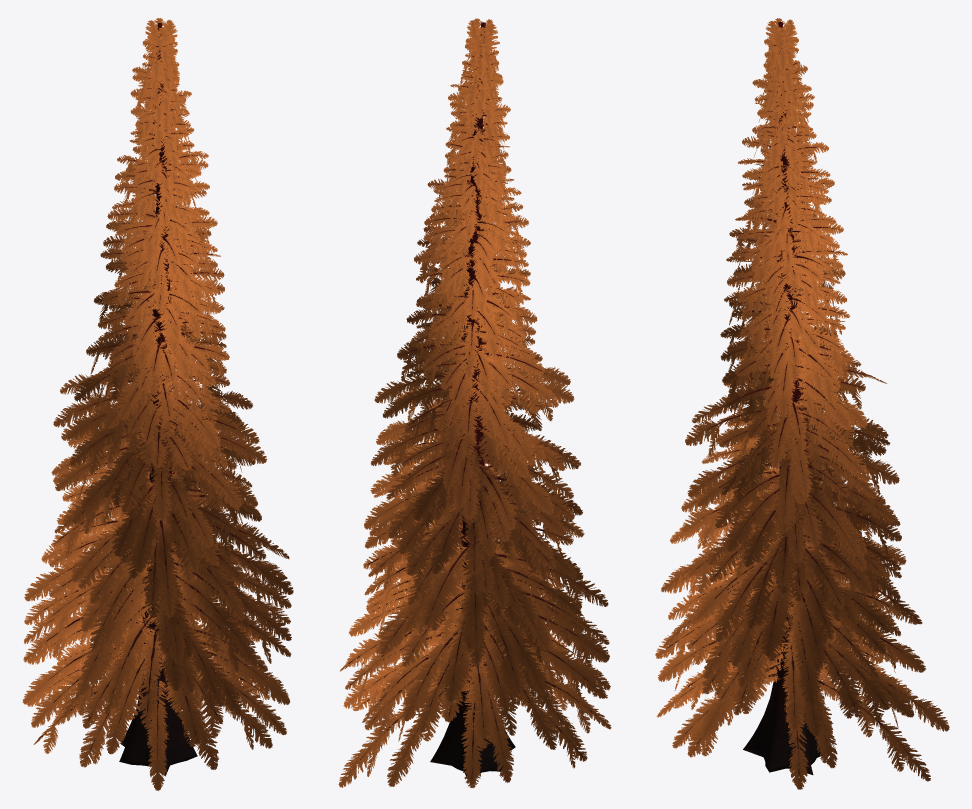
The model's file is baldcypress_v02.glb.
3 renders of one model, left to right at view 1: azimuth 30°, elevation 25°; view 2: azimuth 150°, elevation 25°; view 3: azimuth 270°, elevation 25°, orthographic.
Parts seen in each view (by area): view 1: baldcypress_v02; view 2: baldcypress_v02; view 3: baldcypress_v02.
Boxes of the visible parts, <box> form: baldcypress_v02: <box>22,18,293,790</box>; baldcypress_v02: <box>338,18,611,788</box>; baldcypress_v02: <box>655,18,949,789</box>.
Bounding box in the file's own units: 9.11 × 26.21 × 9.96.
2 materials, 2 textured.
